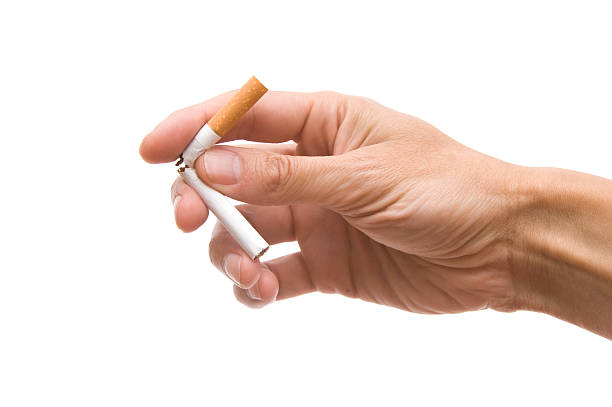cigarette: (176, 165, 271, 263), (177, 75, 268, 169)
